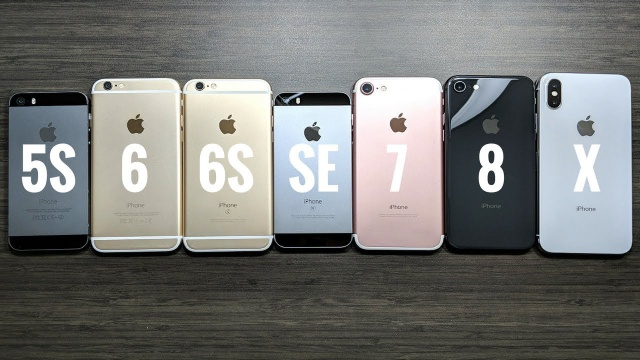apple: (472, 107, 509, 143), (382, 107, 415, 141), (213, 107, 246, 141), (119, 109, 152, 140), (34, 119, 66, 147), (572, 114, 604, 141), (298, 116, 330, 143)
